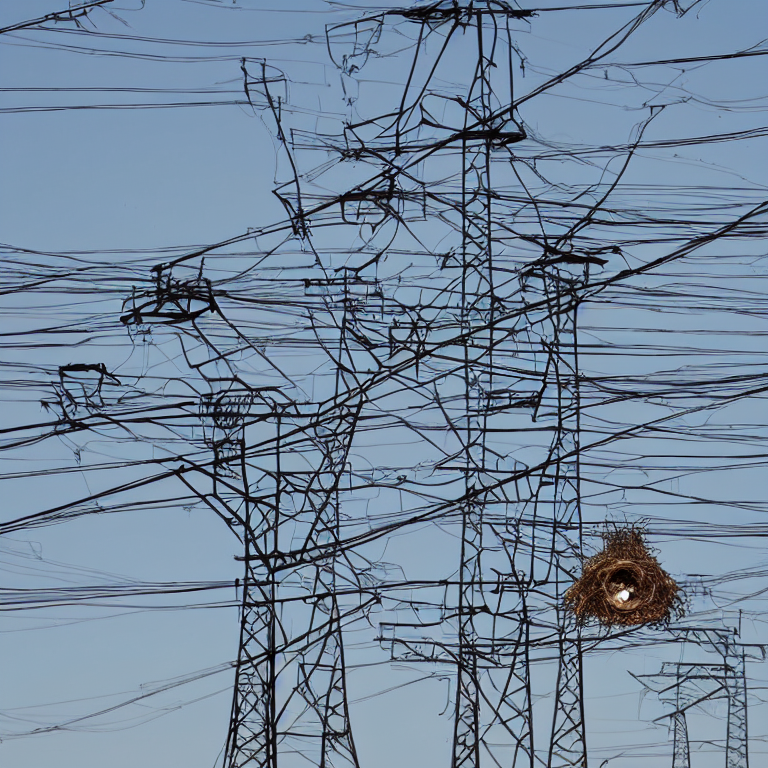nest: (576, 542, 674, 619)
